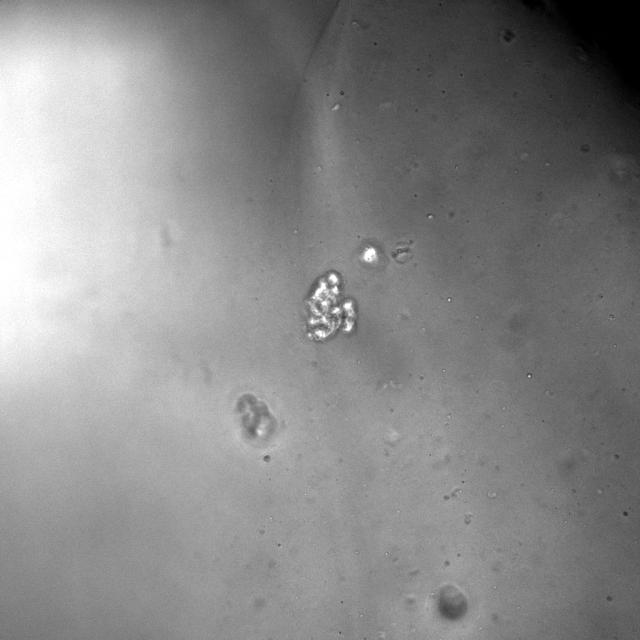organoid: (305, 271, 356, 341), (233, 392, 279, 448), (354, 238, 388, 270), (438, 585, 467, 619)
